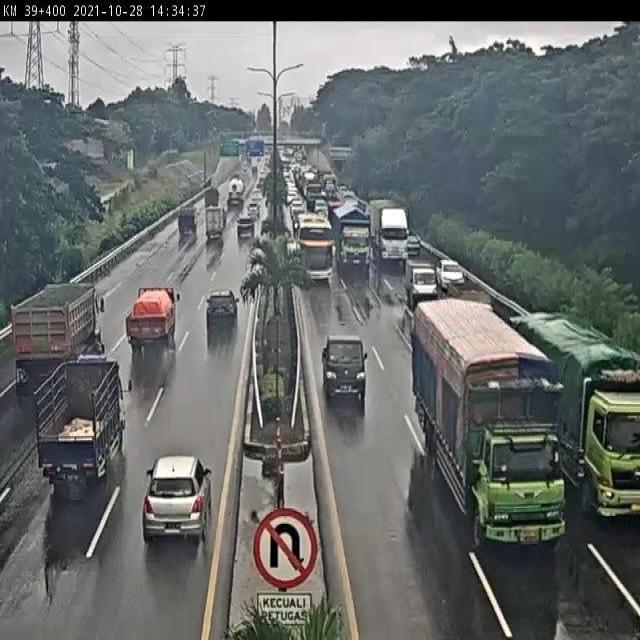big bus: (293, 215, 333, 284)
big truck: (409, 299, 566, 553), (512, 306, 640, 502), (14, 282, 106, 394), (332, 204, 373, 273), (371, 200, 412, 267)
car: (142, 456, 213, 545), (321, 333, 368, 398), (407, 259, 437, 308), (205, 292, 240, 332), (438, 255, 465, 293), (235, 218, 256, 245), (244, 201, 261, 224)
small truck: (35, 355, 130, 489), (124, 285, 183, 356), (205, 206, 227, 242), (178, 206, 198, 242), (201, 185, 222, 215)
